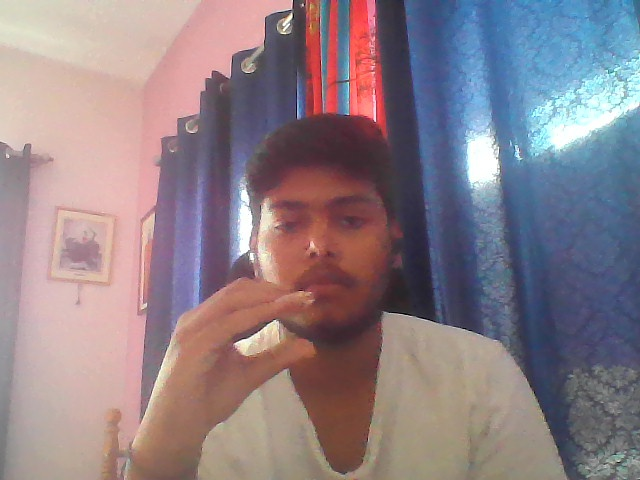No: (149, 271, 326, 433)
